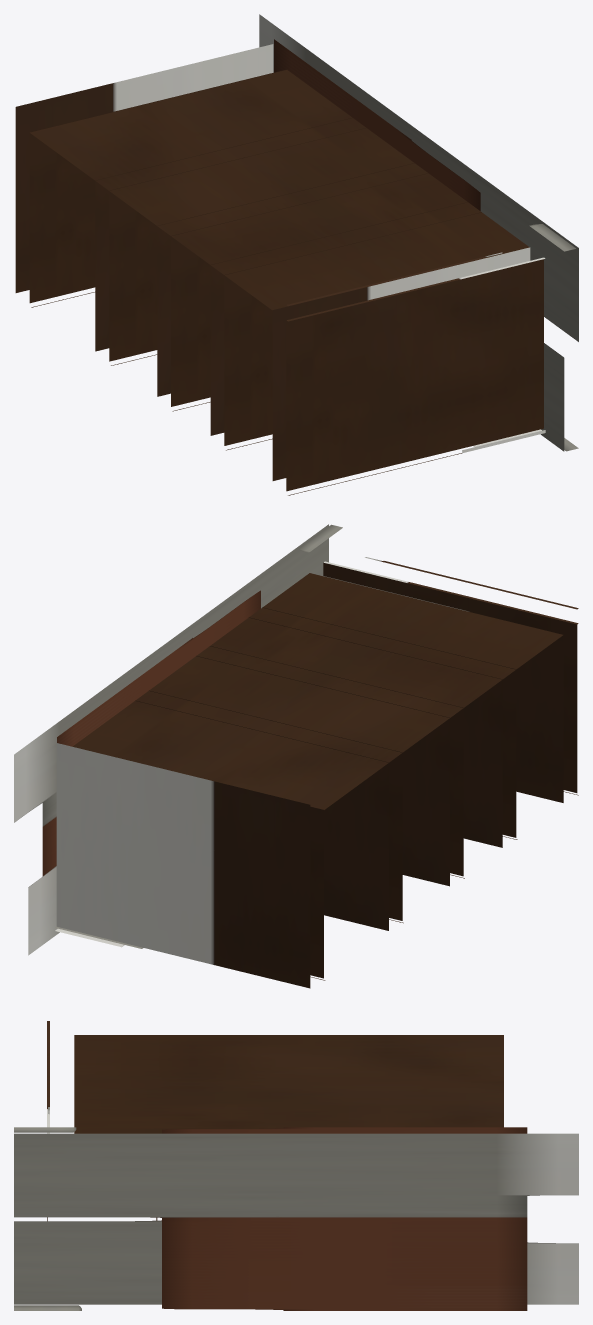
3 renders of one model, top to bottom at view 1: azimuth 30°, elevation 25°; view 2: azimuth 150°, elevation 25°; view 3: azimuth 270°, elevation 25°, orthographic. The views are drawn at different scales.
Size of the model in its own units: 0.91 by 0.6398 by 1.85.
